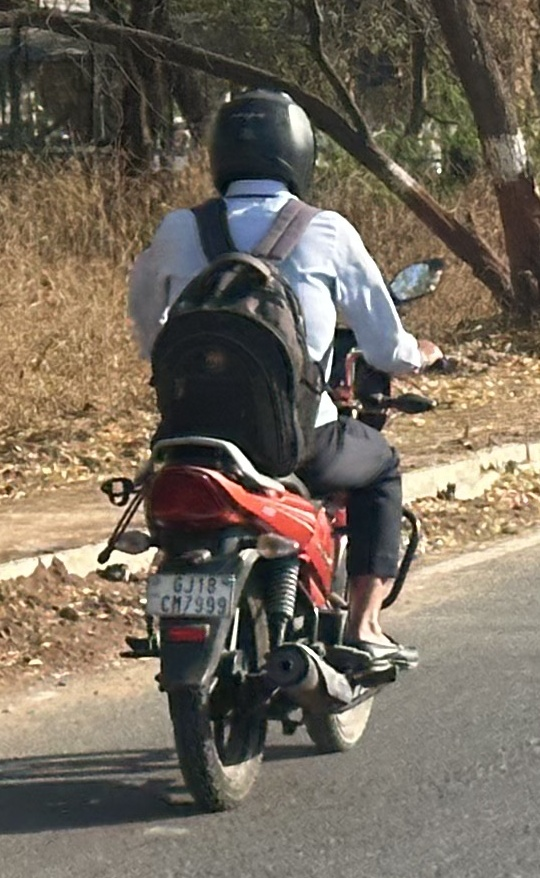BikeWithRider: (82, 78, 468, 821)
Helmet: (194, 80, 329, 210)
